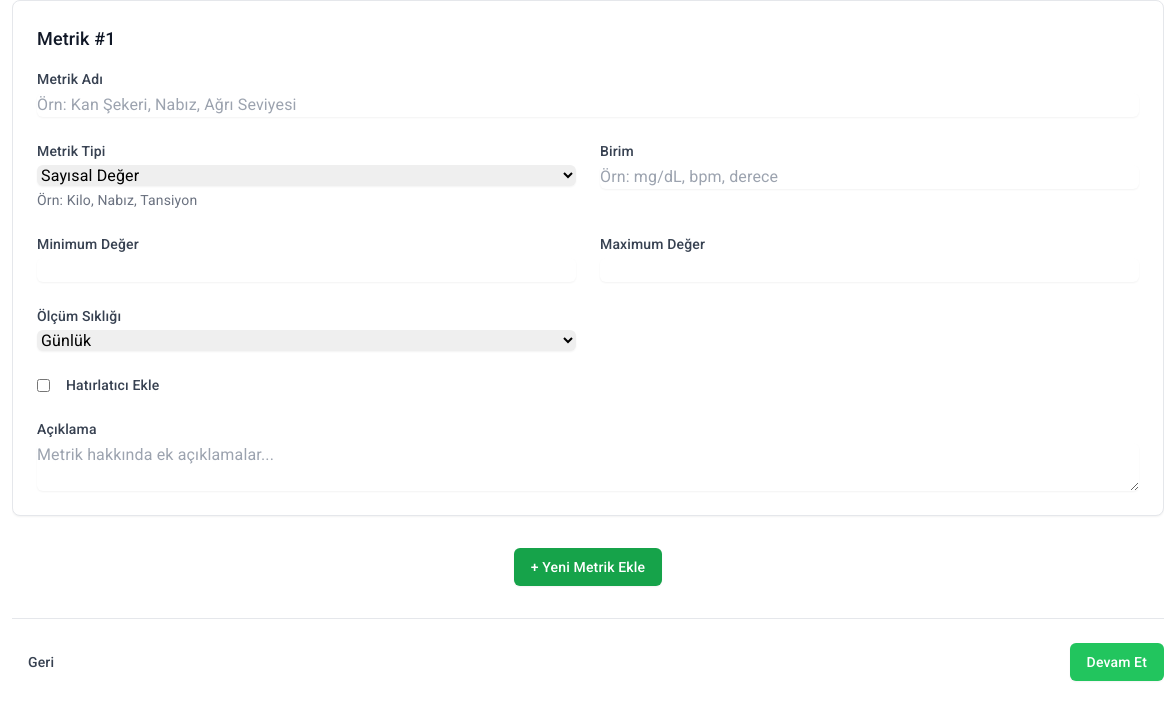
Test case: HealthMetricStep › handles reminder toggle correctly
Expected: the text "Hatırlatma Süresi (Dakika)" is not shown
// Show reminder settings when checked
Step 1. Click the checkbox → (44, 385), box [37,378,50,392]
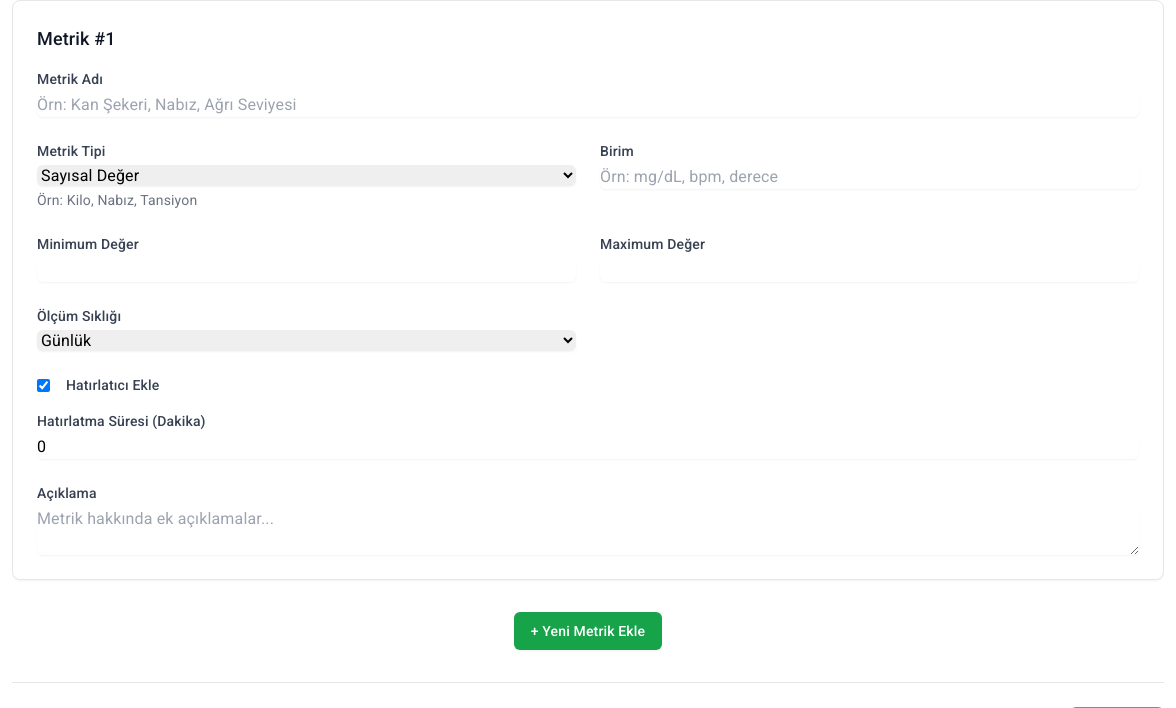
Result: the text "Hatırlatma Süresi (Dakika)" is shown at [37,413,206,429]
// Hide reminder settings when unchecked
Step 2. Click the checkbox → (44, 385), box [37,378,50,392]
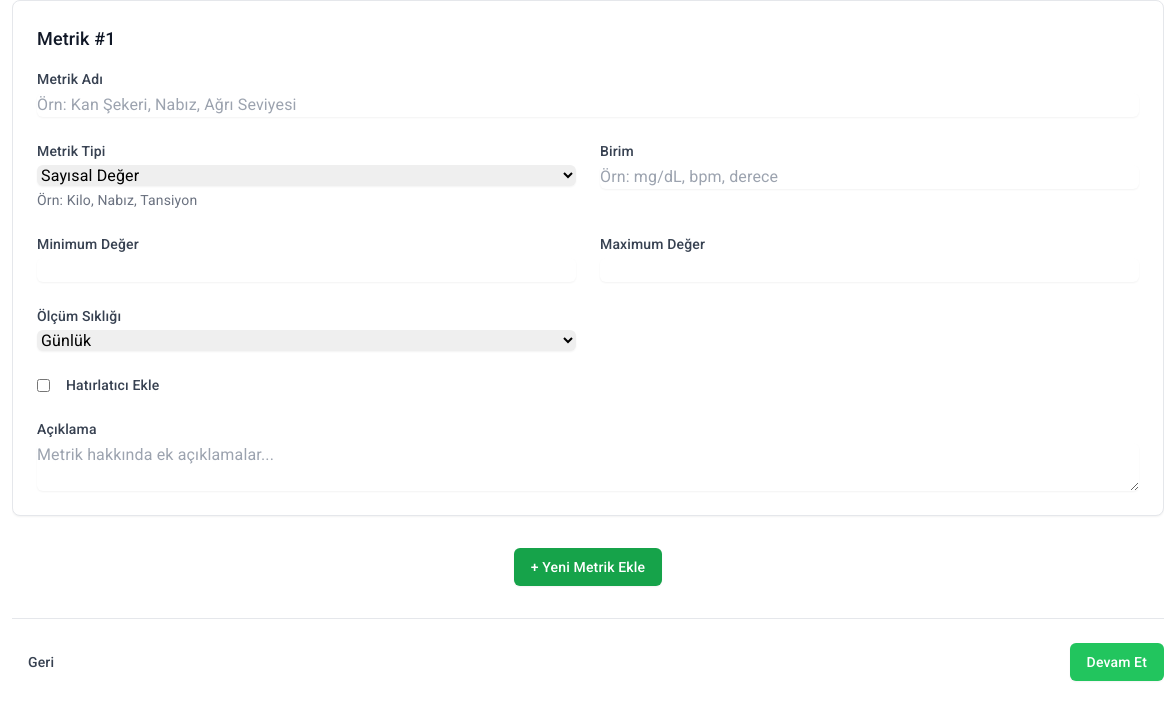
Result: the text "Hatırlatma Süresi (Dakika)" is gone
